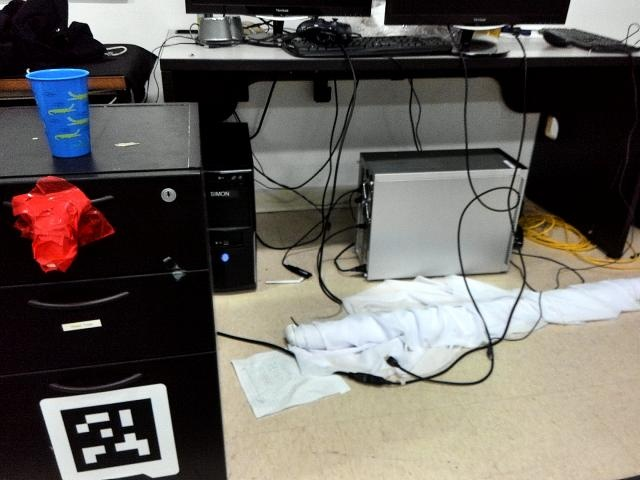water_cup: (25, 62, 96, 169)
